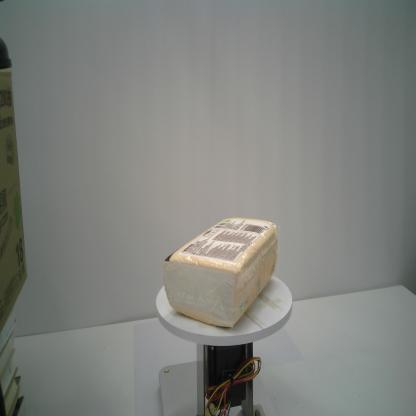Tissue: (162, 217, 279, 329)
